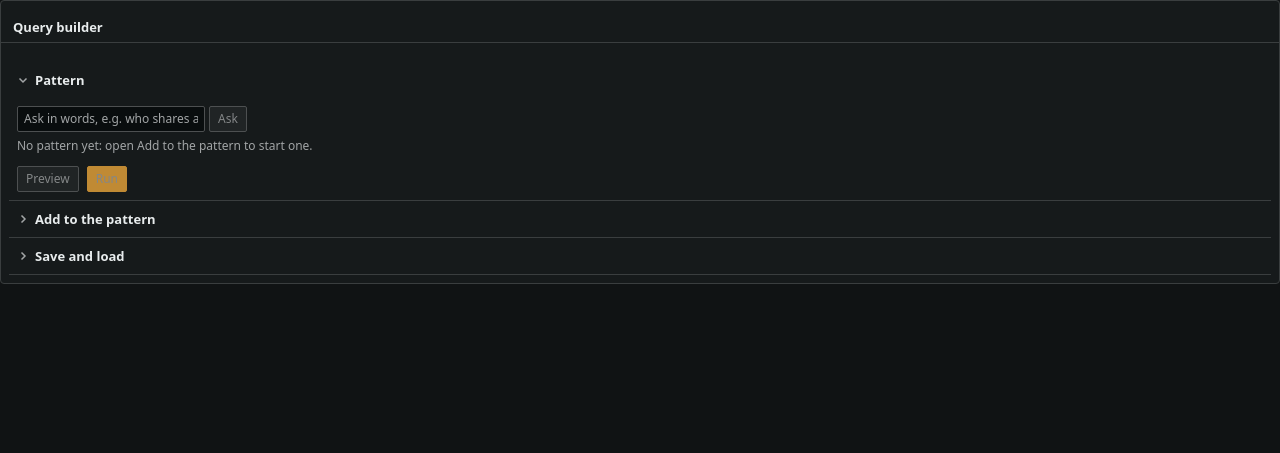
QueryBuilderPanel value field on a node › adds a condition, shows it, and sends it in the preview as PatternNode.where
This screenshot has width=1280, height=453.
Click the button "Add to the pattern": point(95, 219) left=9, top=201, right=1271, bottom=237
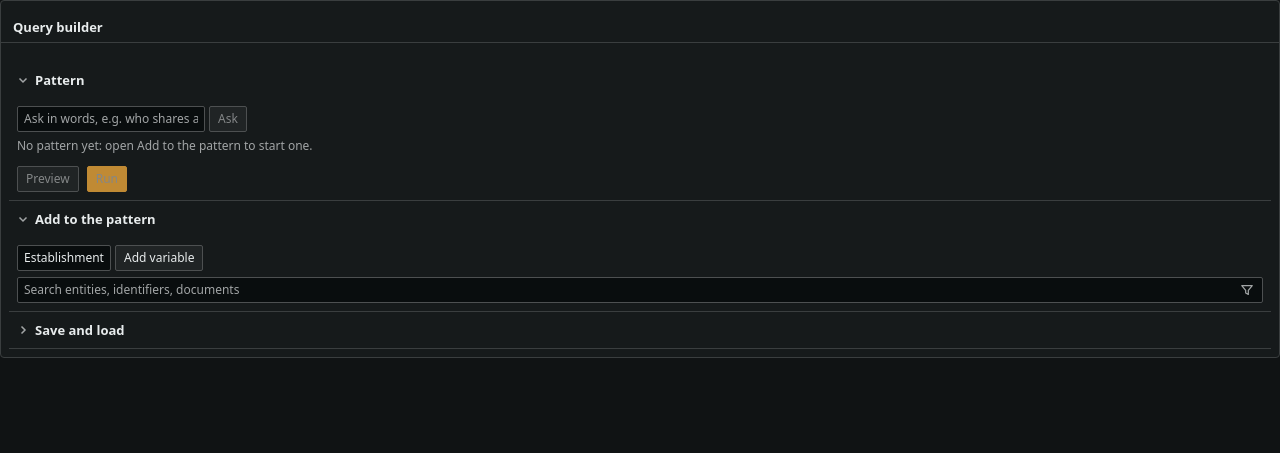
Click the button "Add variable": point(159, 258) left=115, top=245, right=203, bottom=271
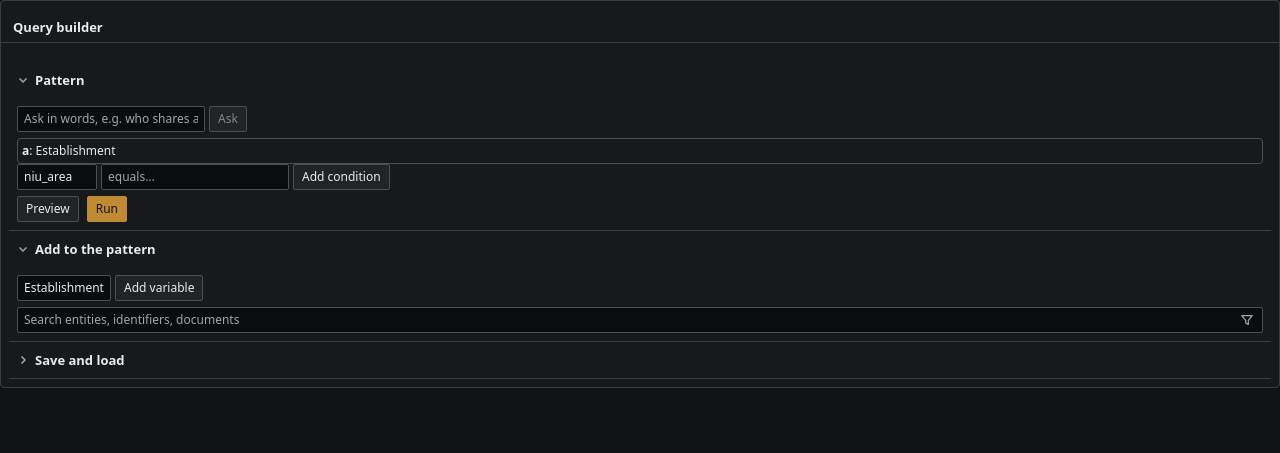
Select "niu_area" in the dropdown named "Condition property on a": point(57, 177) left=17, top=164, right=97, bottom=190
In the field named "Condition value on a": point(195, 177) left=101, top=164, right=289, bottom=190, type "North"
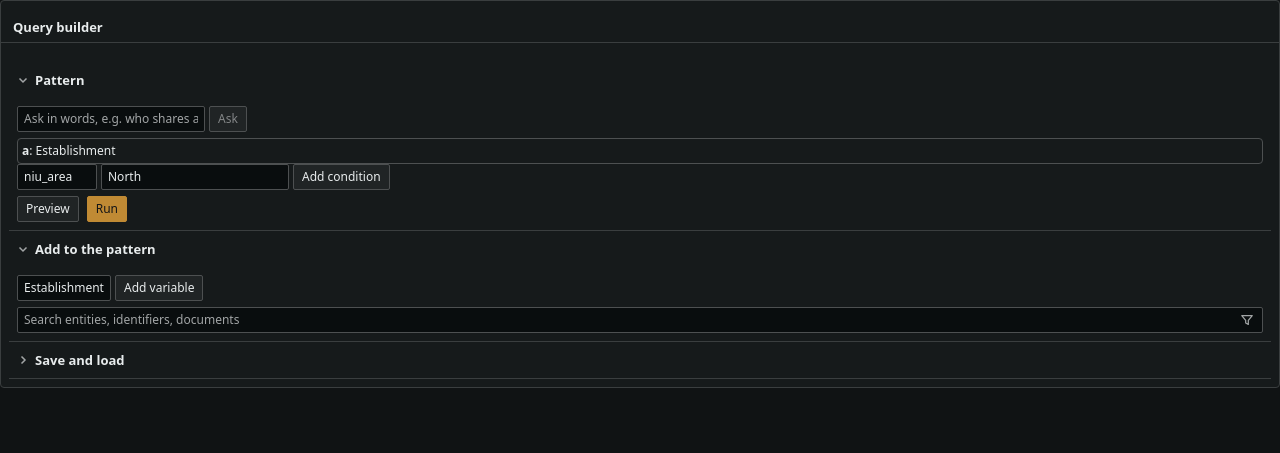
Click the button with aria-label "Add condition on a": point(341, 177) left=293, top=164, right=390, bottom=190
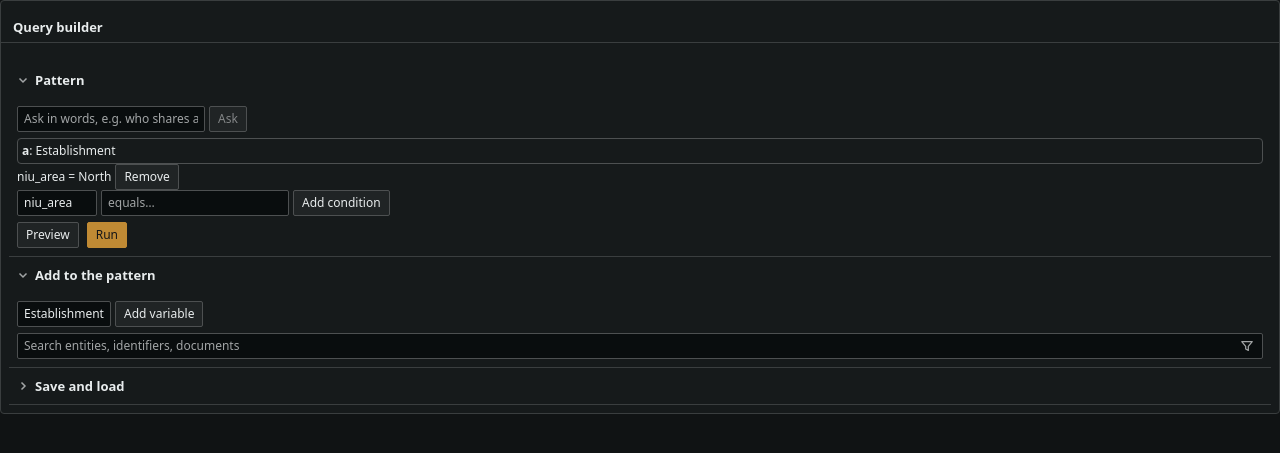
Expected: the text "niu_area = North" is shown, left=17, top=169, right=111, bottom=185
Click the button "Preview": point(48, 235) left=17, top=222, right=79, bottom=248
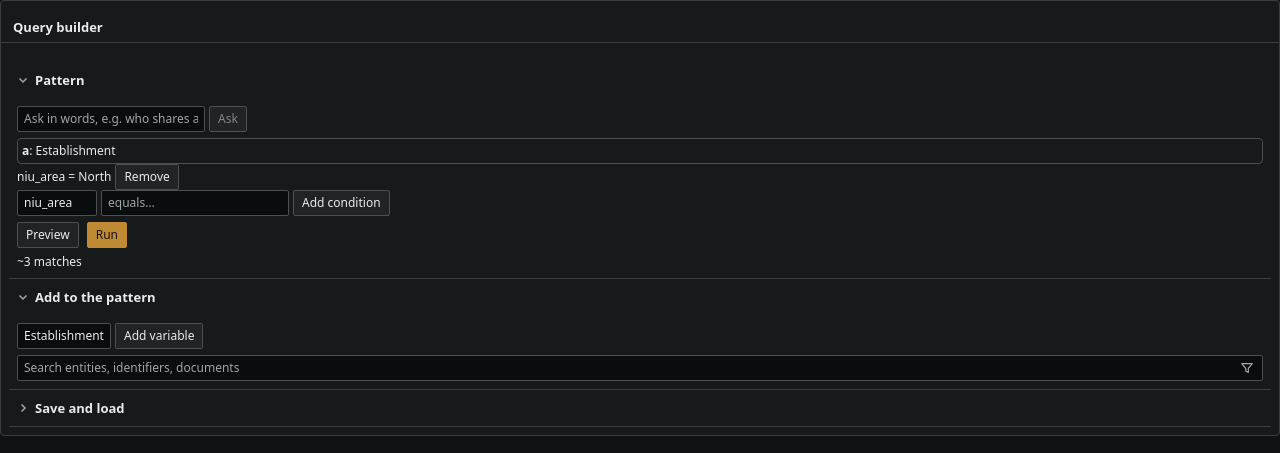
Expected: the text "~3 matches" is shown, left=17, top=253, right=82, bottom=270
